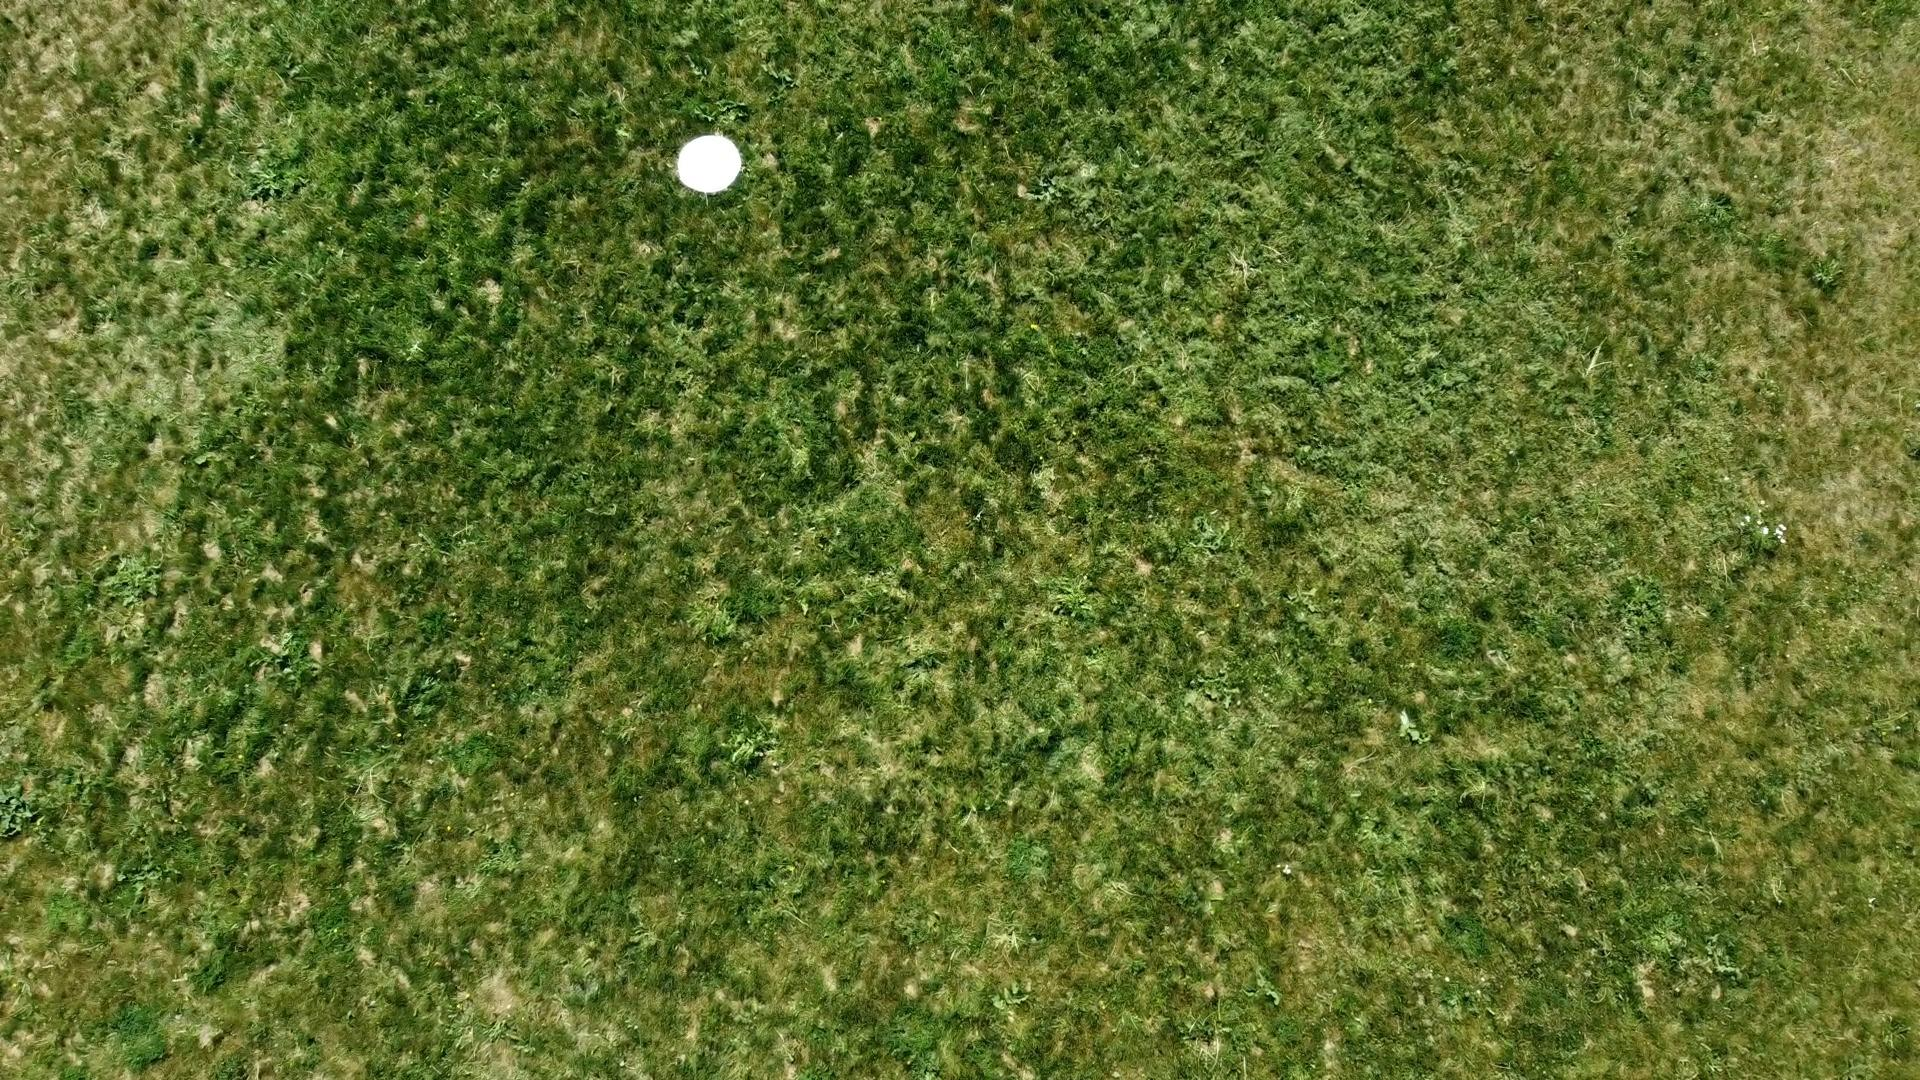Blue: (675, 132, 745, 195)
